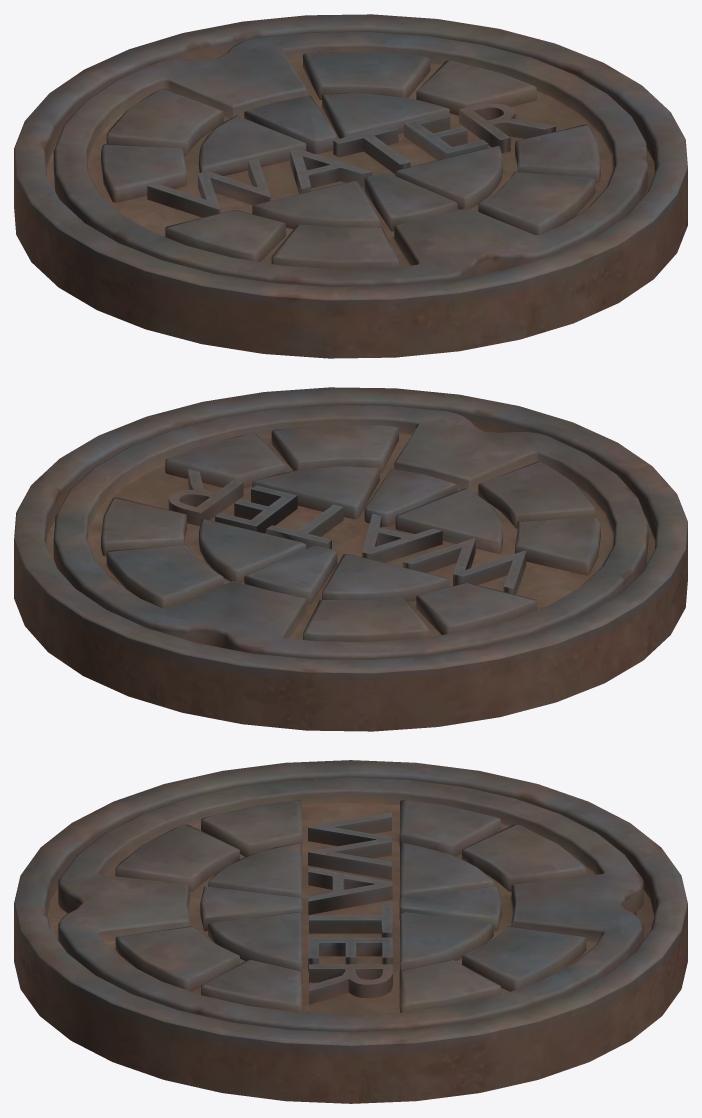
The model's file is water-manhole-cover.glb.
3 renders of one model, top to bottom at view 1: azimuth 30°, elevation 25°; view 2: azimuth 150°, elevation 25°; view 3: azimuth 270°, elevation 25°, orthographic.
Parts seen in each view (by area): view 1: water_manhole_cover_frame; view 2: water_manhole_cover_frame; view 3: water_manhole_cover_frame.
Part boxes in pixels (left/top/right/bottom): water_manhole_cover_frame: left=14, top=14, right=687, bottom=358; water_manhole_cover_frame: left=14, top=387, right=687, bottom=731; water_manhole_cover_frame: left=14, top=760, right=687, bottom=1103.
Bounding box in the file's own units: 0.6908 × 0.0676 × 0.6908.
Materials: 1 (1 with a texture image).
